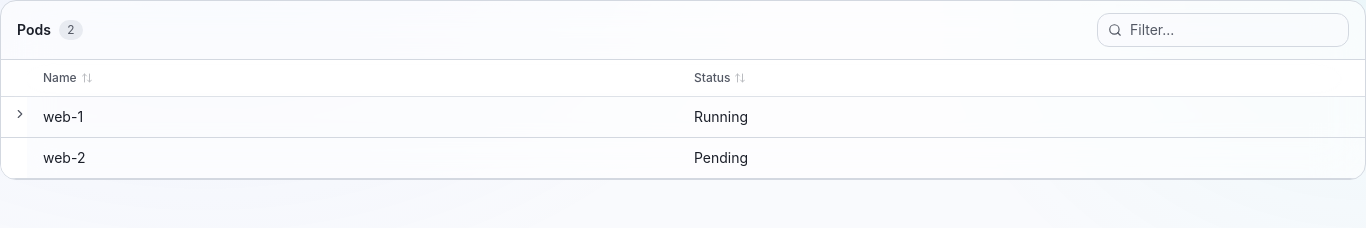
Test case: DataTable › collapses an expanded row on a second click
Click the row "web-1 Running" at (683, 117), box [1,96,1365,138]
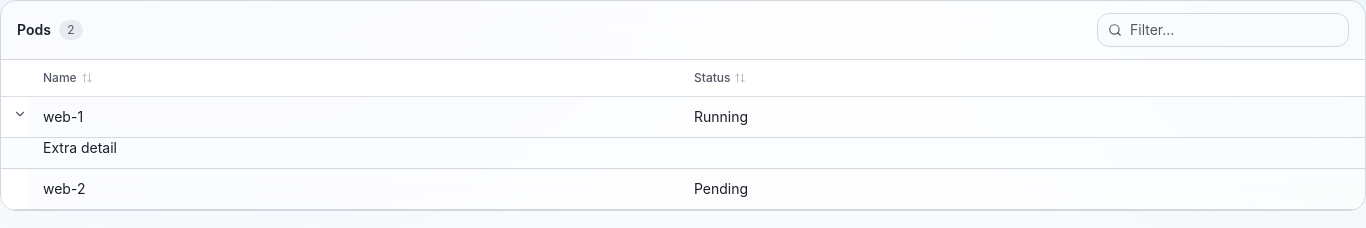
Result: the text "Extra detail" is shown at [43,139,117,156]
Click the row "web-1 Running" at (683, 117), box [1,96,1365,138]
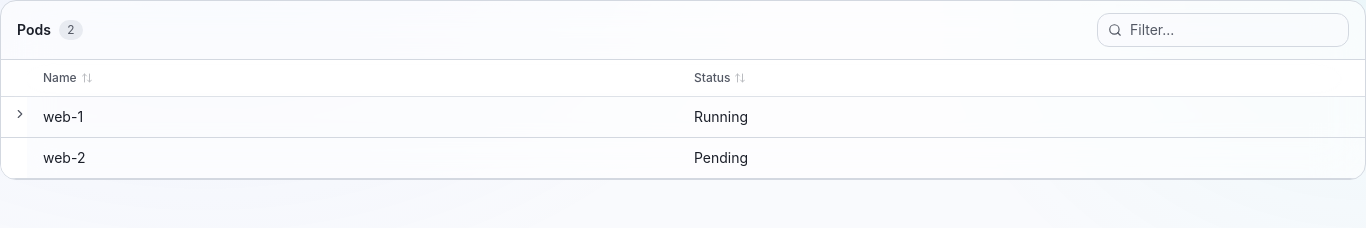
Result: the text "Extra detail" is gone
